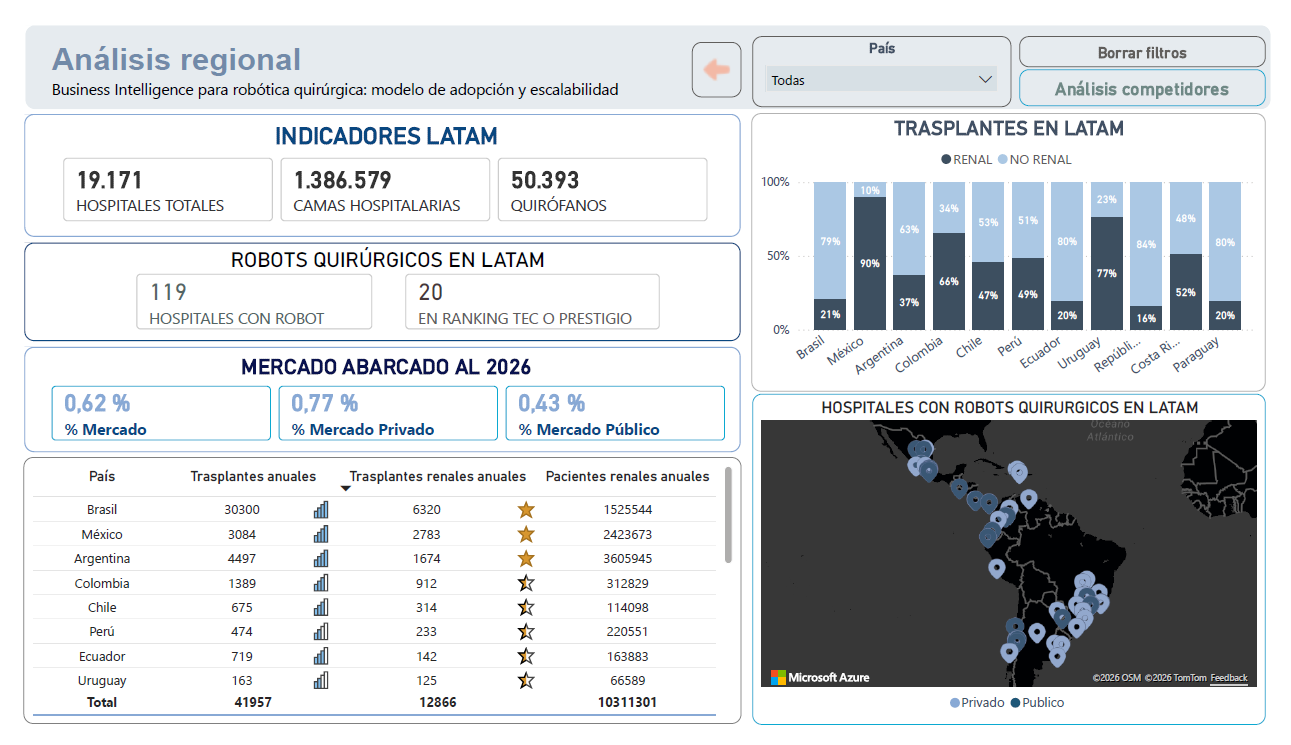

What the dashboard file says about the page in this screenshot:
{"tool":"powerbi","page":{"name":"Análisis regional","canvas":[1280,720],"ordinal":1},"visuals":[{"type":"shape","box":[1.7,1.7,1278.3,86.7],"z":0},{"type":"shape","box":[0,91.9,736.9,127.6],"z":1000},{"type":"shape","box":[0,330.7,736.9,109.8],"z":2000},{"type":"shape","box":[0,223.7,736.9,102.9],"z":3000},{"type":"cardVisual","fields":{"Data":["hospitales.%mercado_abarcado","hospitales.%mercado_priv_abarcado","hospitales.%mercado_publ_abarcado"]},"box":[12.4,355.4,724.6,89.2],"z":4000},{"type":"slicer","title":"País","fields":{"Values":["paises.nombre_pais"]},"box":[747.8,13.3,266.7,72.2],"z":5000},{"type":"cardVisual","title":"INDICADORES LATAM","fields":{"Data":["paises.hospitales_latam","paises.total_camas","paises.total_quirofanos"]},"box":[24.2,121.1,696.5,98.4],"z":6000},{"type":"hundredPercentStackedColumnChart","title":"TRASPLANTES EN LATAM","fields":{"Category":["paises.nombre_pais"],"Y":["paises.traspl_renal","paises.trasplantes_anuales_sin_renal"]},"box":[746.7,91.7,528.3,286.7],"z":7000},{"type":"tableEx","fields":{"Values":["paises.nombre_pais","Sum(paises.transplantes_anuales)","paises.traspl_renal","Sum(paises.cant_pac_renales_anuales)"]},"box":[0,444.6,736.9,274.5],"z":8000},{"type":"textbox","box":[24.2,13.6,616.3,89.3],"z":9000},{"type":"textbox","box":[170.2,225.1,407.6,43.9],"z":10000},{"type":"textbox","box":[198.4,334.6,349.8,43.9],"z":11000},{"type":"cardVisual","fields":{"Data":["hospitales.hospitales_con_robot"]},"box":[98.8,240.2,275.8,90.6],"z":12000},{"type":"azureMap","title":"HOSPITALES CON ROBOTS QUIRURGICOS EN LATAM","fields":{"Y":["hospitales.latitud"],"X":["hospitales.longitud"],"Series":["hospitales.tipo_gestion"]},"box":[748.3,380,526.7,340],"z":13000},{"type":"textbox","box":[245.3,96.9,255.9,43.9],"z":14000},{"type":"actionButton","box":[1021.7,13.3,253.3,31.7],"z":15000},{"type":"actionButton","box":[1021.7,46.7,253.3,38.3],"z":16000},{"type":"cardVisual","fields":{"Data":["hospitales.CantenRanking"]},"box":[374.6,240.2,295.1,90.6],"z":17000},{"type":"actionButton","box":[685.7,18.6,51.4,57.1],"z":18000}]}

Visuals, with their boxes in screenshot pixels (x1, y1, x2, y2), scaled from the page's 1280x720 canvas onto the 1291x745 screenshot:
shape: (2, 2, 1290, 91)
shape: (0, 95, 743, 227)
shape: (0, 342, 743, 456)
shape: (0, 231, 743, 338)
cardVisual - hospitales.%mercado_abarcado x hospitales.%mercado_priv_abarcado: (13, 368, 743, 460)
"País" slicer: (754, 14, 1023, 88)
"INDICADORES LATAM" cardVisual: (24, 125, 727, 227)
"TRASPLANTES EN LATAM" hundredPercentStackedColumnChart: (753, 95, 1286, 392)
tableEx - paises.nombre_pais x Sum(paises.transplantes_anuales): (0, 460, 743, 744)
textbox: (24, 14, 646, 106)
textbox: (172, 233, 583, 278)
textbox: (200, 346, 553, 392)
cardVisual - hospitales.hospitales_con_robot: (100, 249, 378, 342)
"HOSPITALES CON ROBOTS QUIRURGICOS EN LATAM" azureMap: (755, 393, 1286, 744)
textbox: (247, 100, 506, 146)
actionButton: (1030, 14, 1286, 47)
actionButton: (1030, 48, 1286, 88)
cardVisual - hospitales.CantenRanking: (378, 249, 675, 342)
actionButton: (692, 19, 743, 78)
